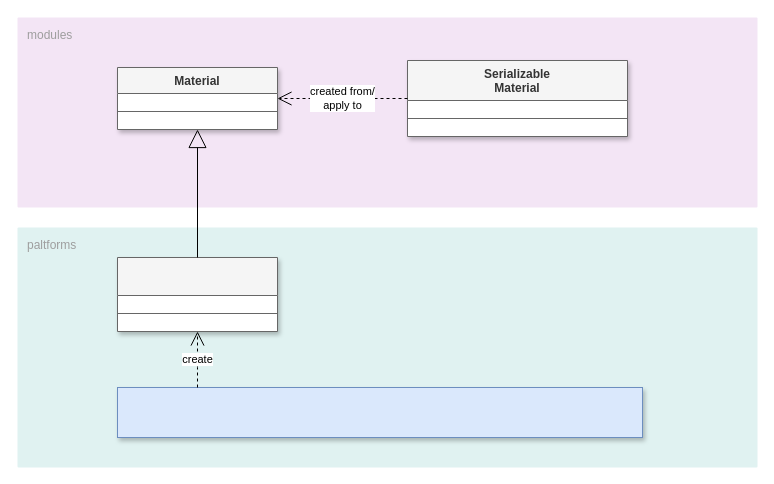
Some shapes in this 774 by 484 pixel diagram are drawn without their labels. The centre of each missing label's shape, as x and y in pixels:
Backend Material: (x=198, y=295)
Platform Code: (x=380, y=413)
